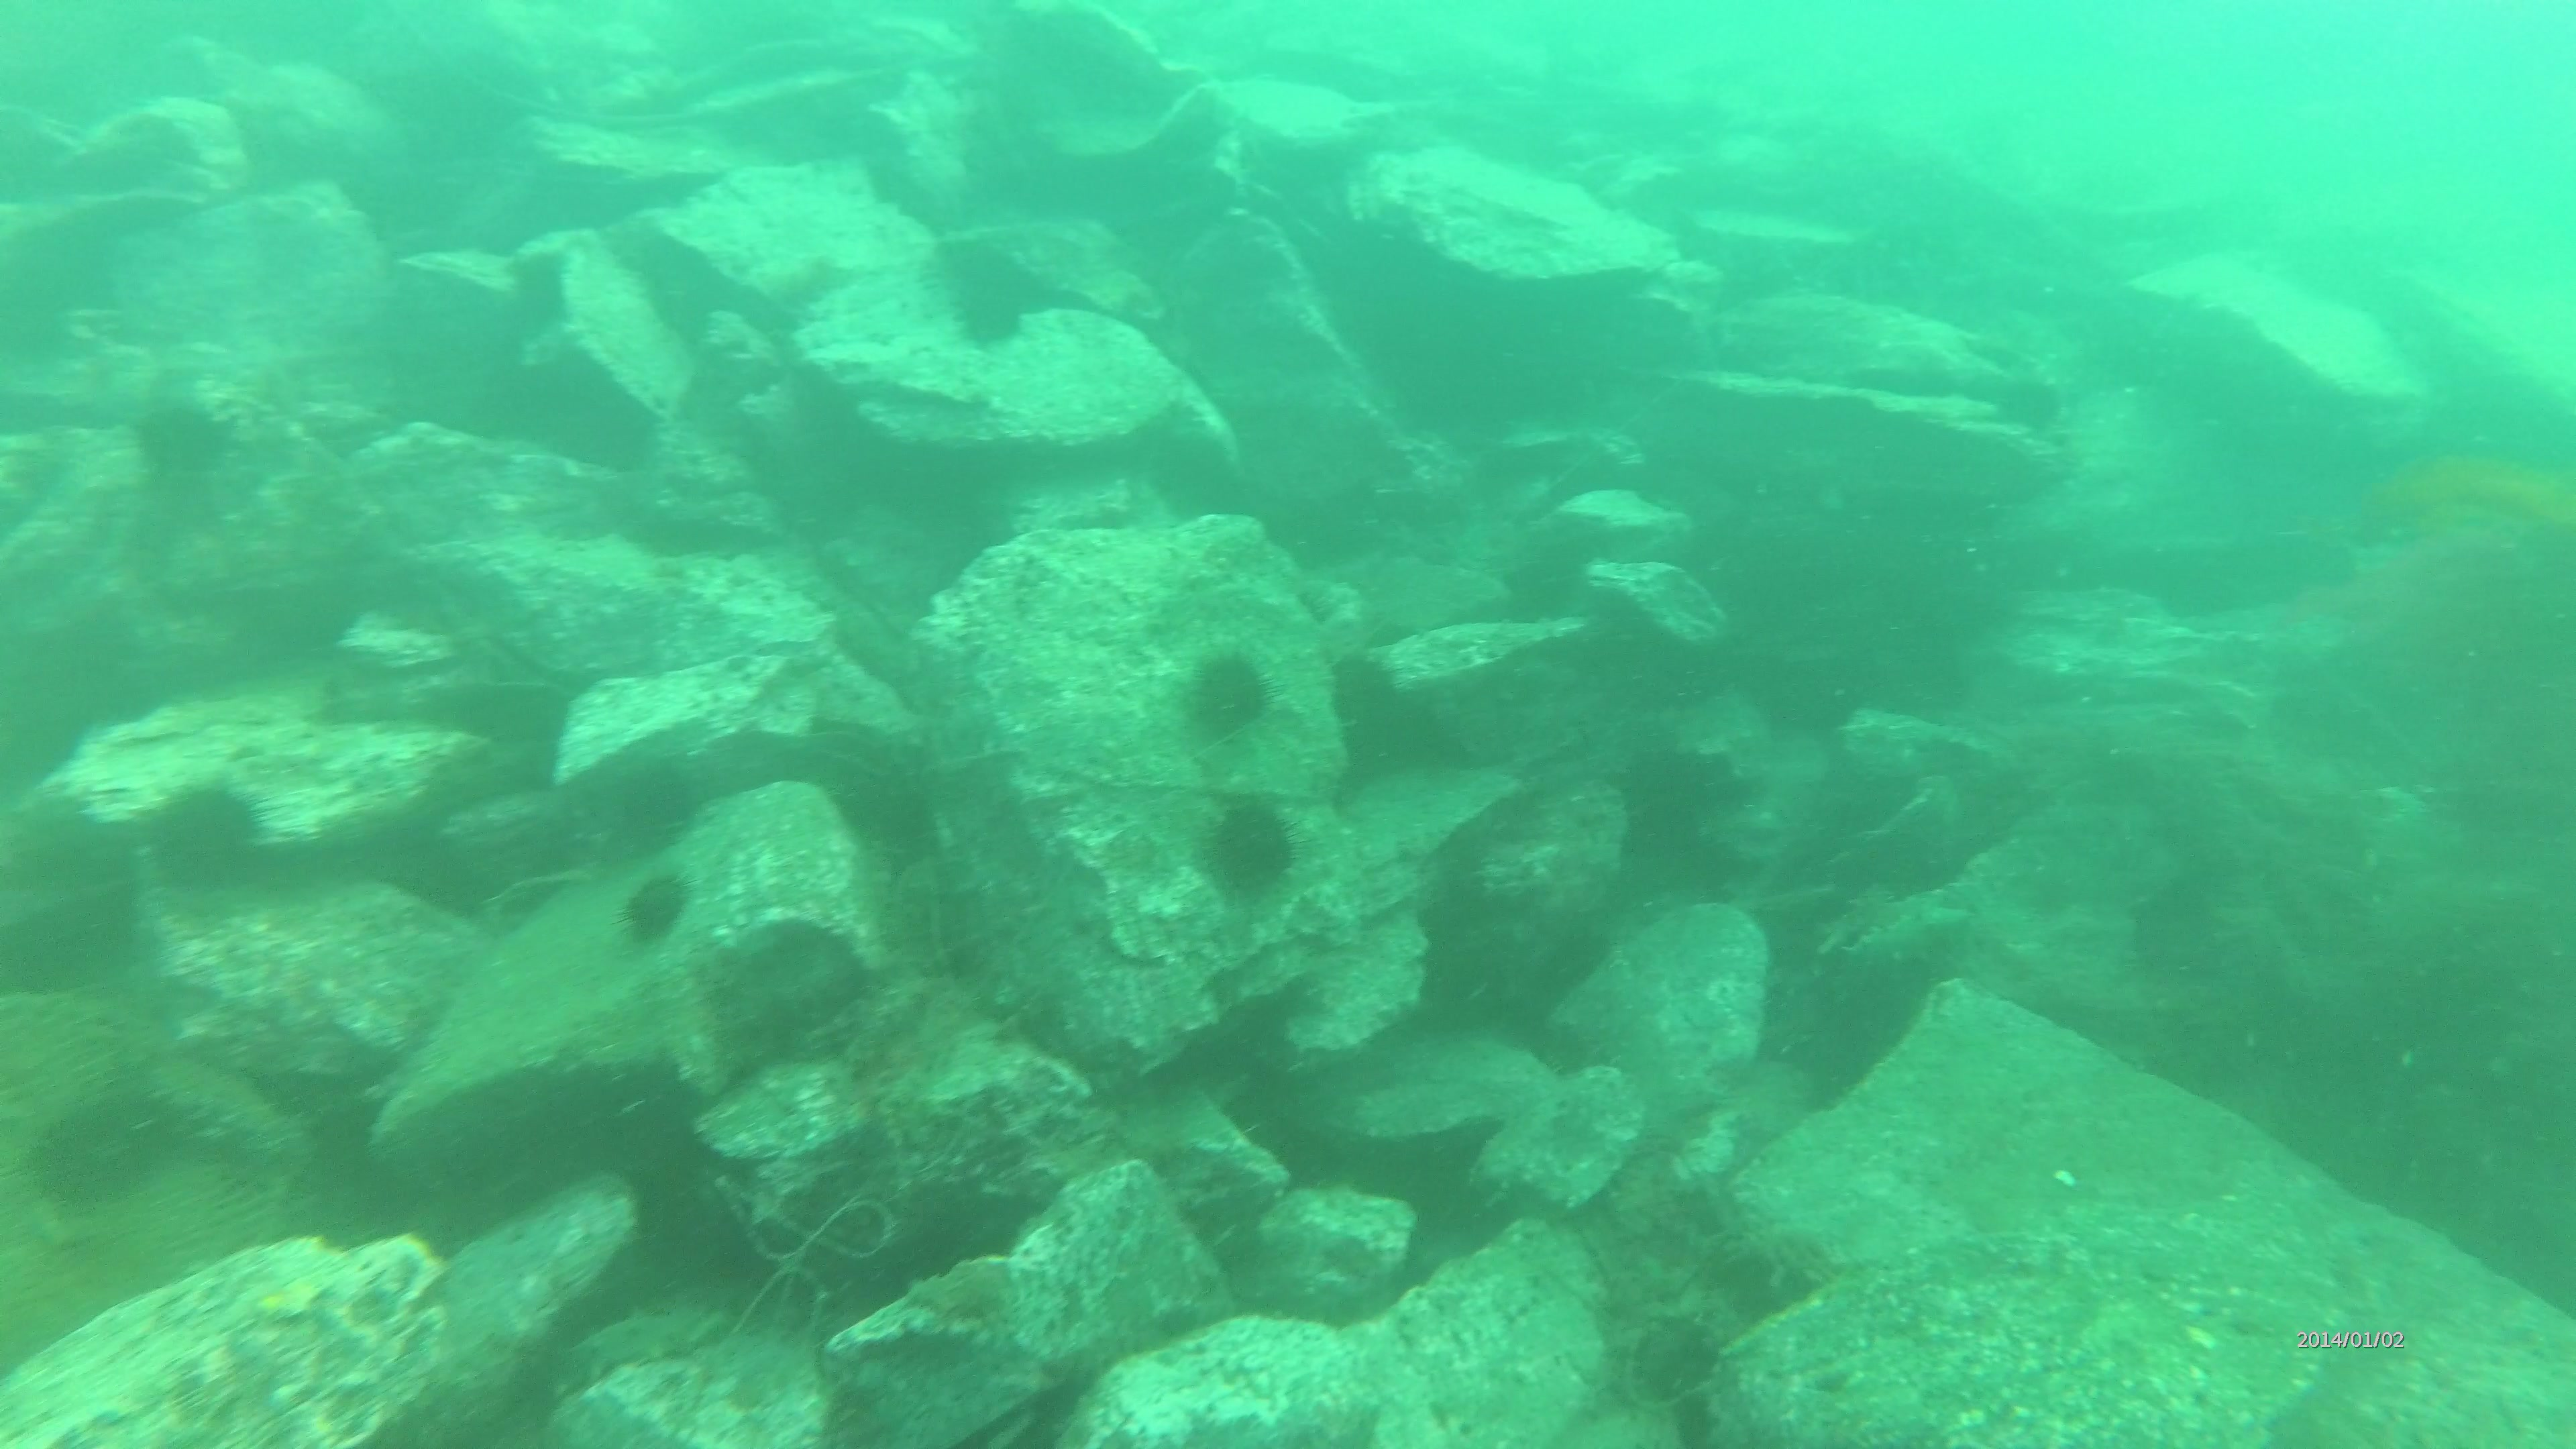echinus: (23, 1079, 191, 1219), (138, 786, 280, 901), (1175, 630, 1286, 757), (122, 389, 244, 495), (1203, 789, 1306, 909), (603, 863, 706, 950), (934, 292, 1042, 361)
holothurian: (899, 1256, 1024, 1332)
